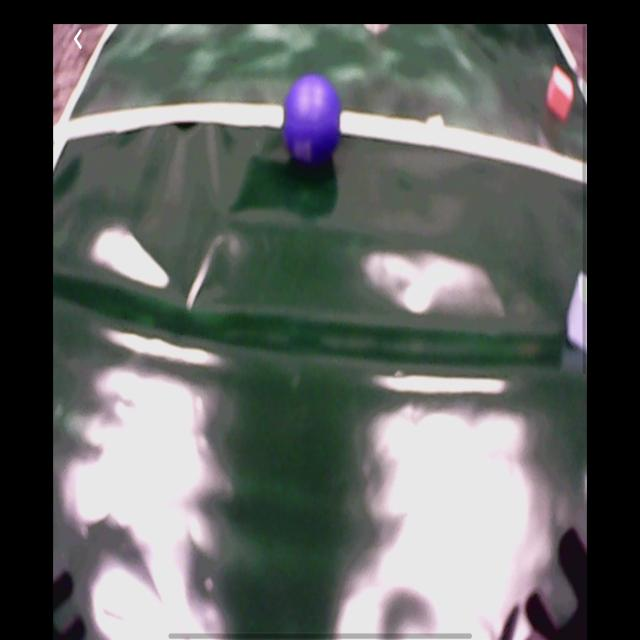ball: (285, 76, 342, 166)
